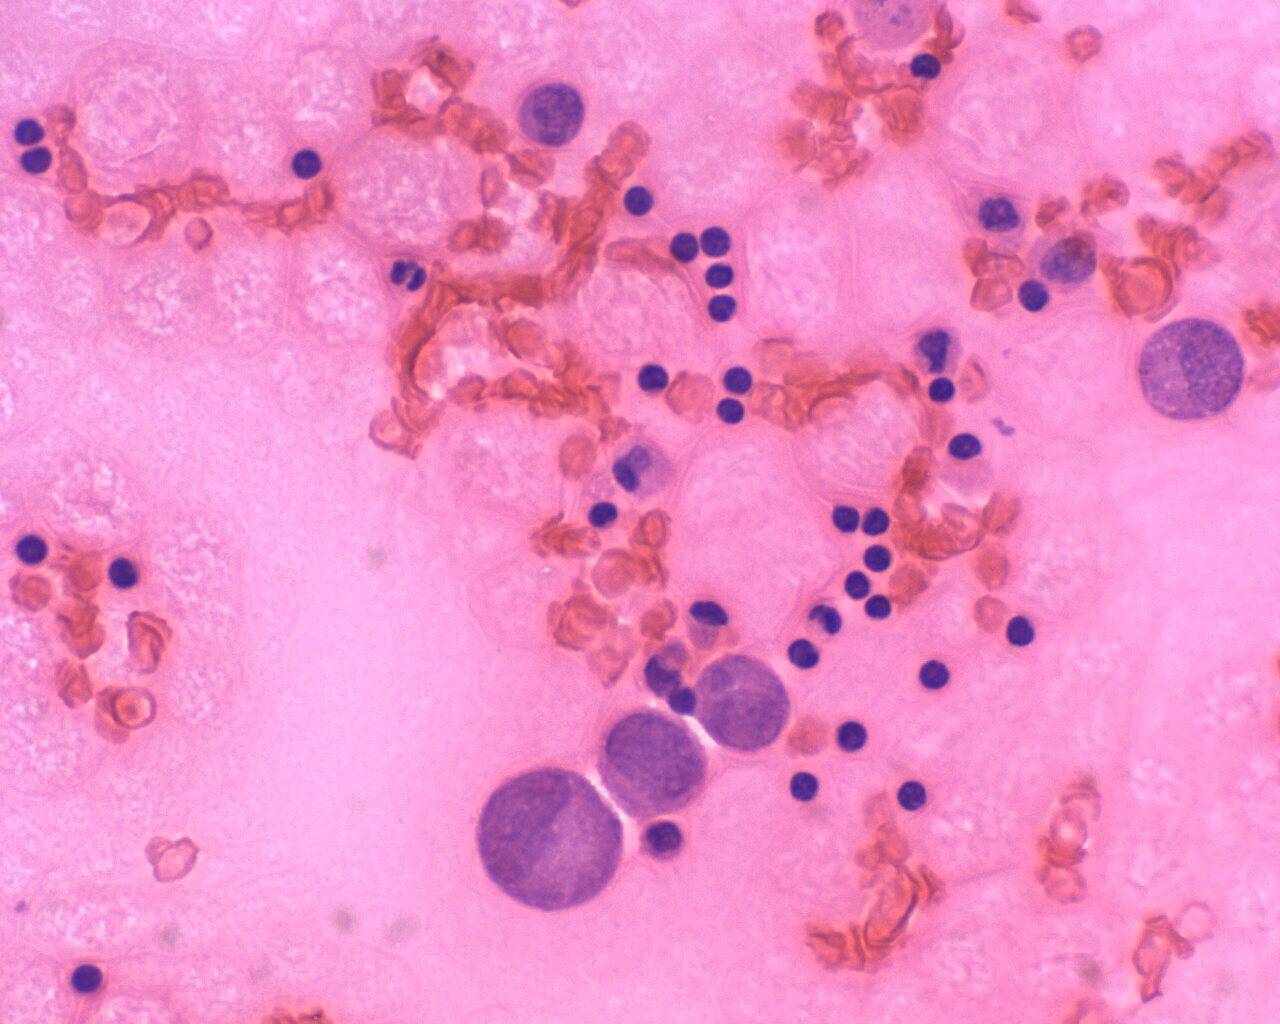ab: (476, 765, 629, 915), (590, 707, 711, 820), (1139, 307, 1249, 427), (699, 647, 797, 757)
lymph: (65, 958, 117, 1002), (632, 353, 677, 401), (285, 142, 332, 187), (941, 425, 986, 470), (1001, 607, 1045, 652), (833, 712, 872, 758), (894, 774, 935, 817), (662, 229, 705, 269), (711, 392, 749, 436), (913, 650, 951, 691), (788, 766, 827, 805), (859, 540, 898, 577), (923, 375, 963, 408), (861, 590, 897, 627), (622, 180, 654, 215)
